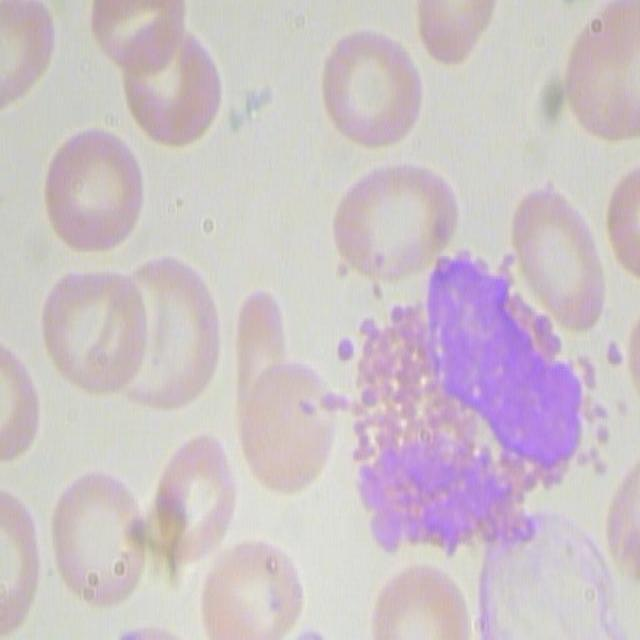RBC: (468, 504, 625, 638), (106, 254, 225, 422), (227, 330, 336, 499), (326, 155, 453, 288), (505, 181, 605, 331), (36, 264, 142, 403), (46, 467, 148, 610), (314, 22, 426, 150), (133, 431, 239, 566), (38, 126, 146, 254), (118, 23, 228, 148), (560, 1, 640, 144), (198, 533, 305, 637), (367, 561, 467, 640), (0, 479, 42, 636), (87, 0, 184, 67), (0, 0, 52, 114), (409, 0, 495, 64), (0, 337, 41, 470), (605, 441, 640, 591), (605, 152, 640, 290)
WBC: (360, 252, 575, 553)
